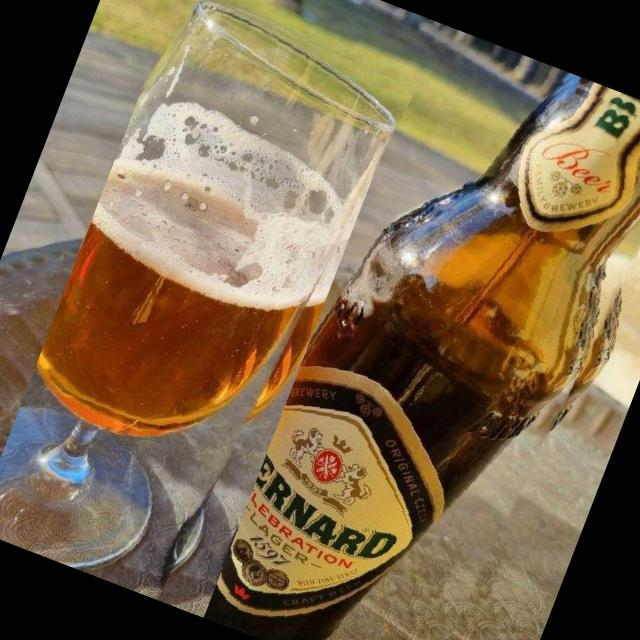Glass: (203, 20, 640, 640), (0, 0, 421, 621)
